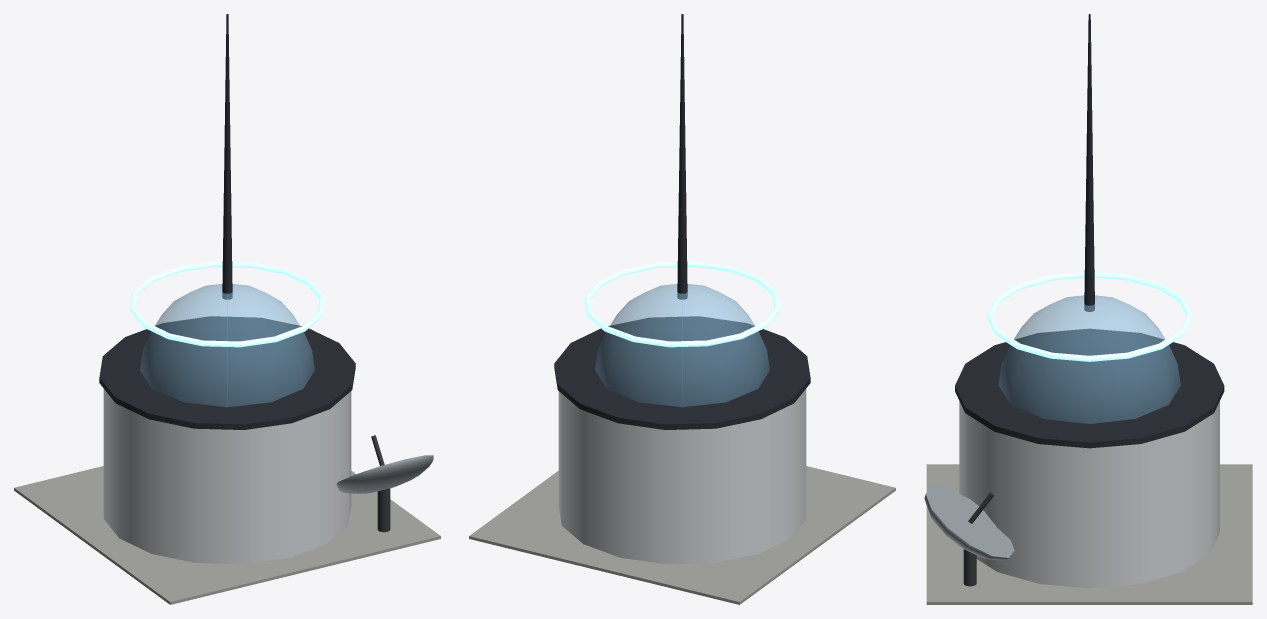
Rendered from bld_special_research_center_a09.glb.
3 renders of one model, left to right at view 1: azimuth 30°, elevation 25°; view 2: azimuth 150°, elevation 25°; view 3: azimuth 270°, elevation 25°, orthographic. The views are drawn at different scales.
Parts seen in each view (by area): view 1: body, antenna; view 2: body; view 3: body, antenna.
Part boxes in pixels (x1,y1,x2,y2): body: [14, 14, 440, 604]; antenna: [336, 435, 433, 532]; body: [469, 14, 895, 604]; body: [926, 14, 1252, 604]; antenna: [924, 486, 1014, 586].
Size of what is drawn, in the model's own units: 15.5 by 26.5 by 15.11.
